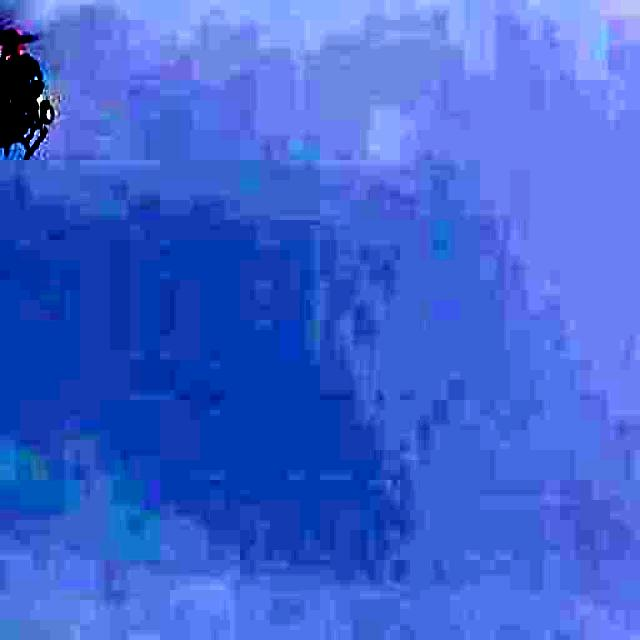drone: (0, 0, 106, 195)
